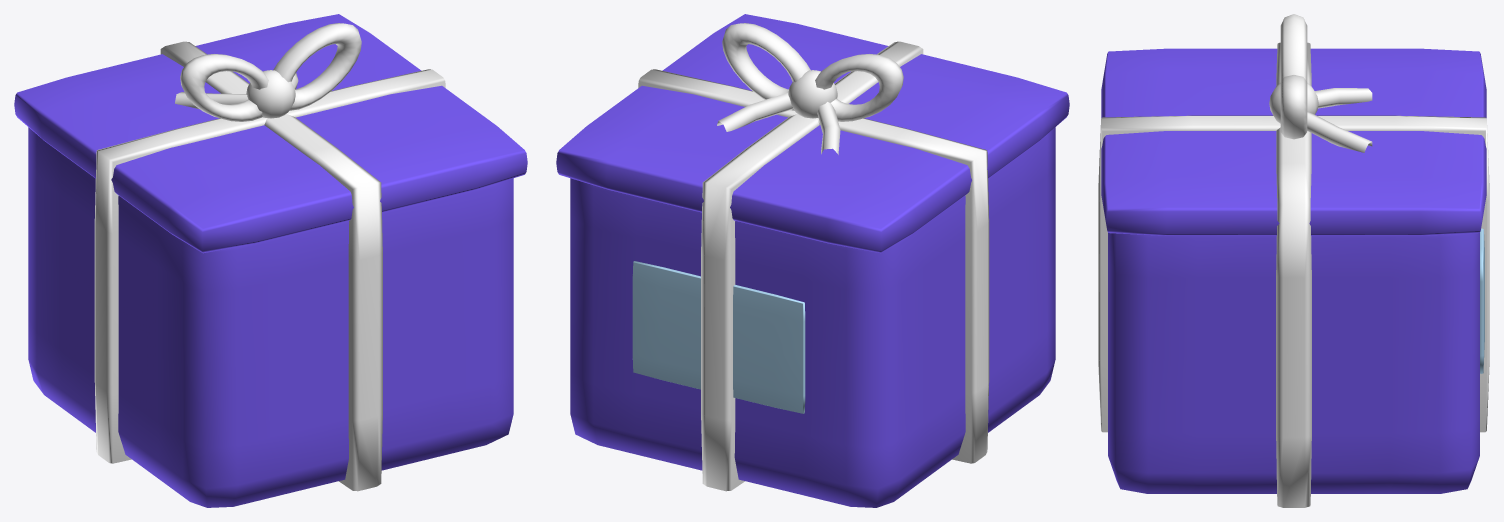
Rendered from CakeBox.obj.
3 views of the same model, side by side, from view 1: azimuth 30°, elevation 25°; view 2: azimuth 150°, elevation 25°; view 3: azimuth 270°, elevation 25° (orthographic).
Parts seen in each view (by area): view 1: Box, Stripe; view 2: Box, Stripe, Window; view 3: Box, Stripe, Window.
Part boxes in pixels (x1=…): Box: x1=14, y1=14, x2=527, y2=507; Stripe: x1=94, y1=23, x2=445, y2=491; Box: x1=556, y1=14, x2=1069, y2=507; Stripe: x1=638, y1=23, x2=989, y2=491; Window: x1=632, y1=261, x2=805, y2=413; Box: x1=1101, y1=48, x2=1486, y2=493; Stripe: x1=1098, y1=14, x2=1489, y2=507; Window: x1=1480, y1=228, x2=1484, y2=373.
Size of the model in its own units: 4.74 by 5.07 by 4.74.
